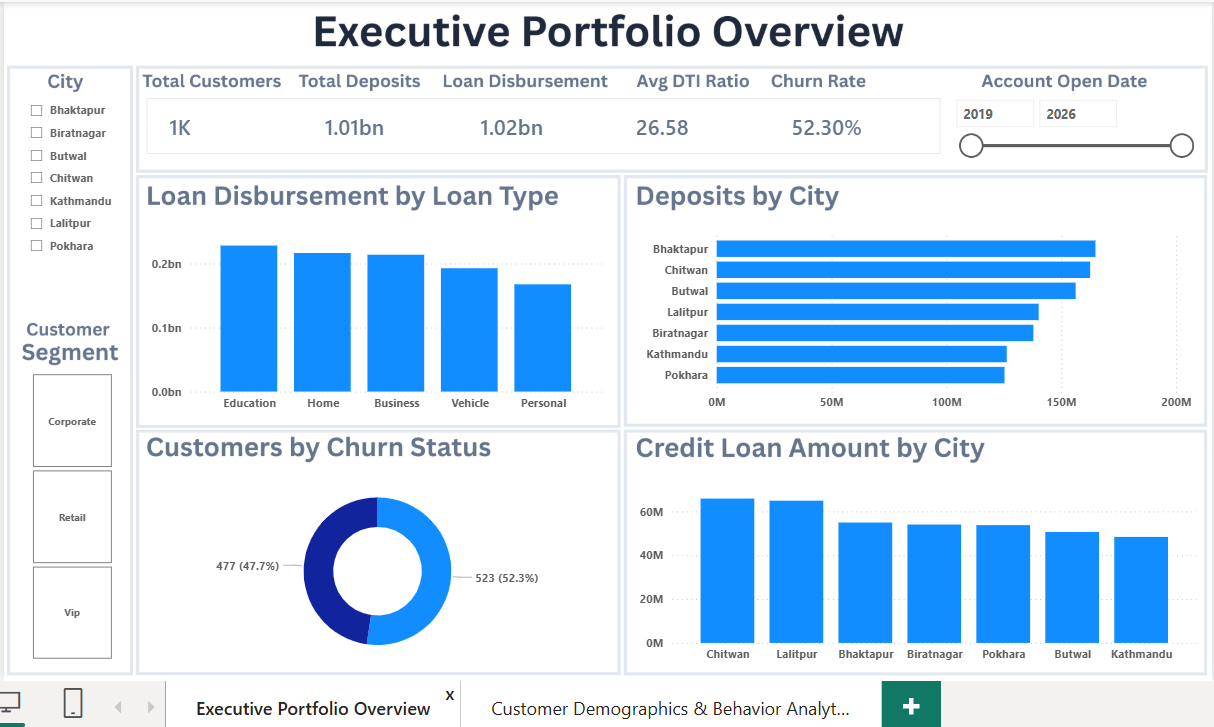

What the dashboard file says about the page in this screenshot:
{"tool":"powerbi","page":{"name":"Executive Portfolio Overview","canvas":[1280,720],"ordinal":0},"visuals":[{"type":"columnChart","fields":{"Category":["banking_data_enriched.Loan_Type"],"Y":["banking_data_enriched.Total Loan Disbursement"]},"box":[151,229.4,488.2,213.7],"z":0},{"type":"clusteredBarChart","fields":{"Category":["banking_data_enriched.City"],"Y":["banking_data_enriched.Total Deposits"]},"box":[674.5,231.4,590.2,211.8],"z":1000},{"type":"donutChart","fields":{"Y":["banking_data_enriched.Total Customers"],"Category":["banking_data_enriched.Churn_Status"]},"box":[150.8,498.3,489.2,210.8],"z":2000},{"type":"columnChart","fields":{"Category":["banking_data_enriched.City"],"Y":["banking_data_enriched.High Credit Loan Amount"]},"box":[667.5,502.5,596.7,206.7],"z":3000},{"type":"slicer","fields":{"Values":["banking_data_enriched.Account_Open_Date.Variation.Date Hierarchy.Year"]},"box":[1002.9,98.6,262.9,72.9],"z":4000},{"type":"slicer","title":"City","fields":{"Values":["banking_data_enriched.City"]},"box":[20,96.7,101.1,201.1],"z":5000},{"type":"slicer","title":"Customer Segment","fields":{"Values":["banking_data_enriched.Customer_Segment"]},"box":[8.9,393.3,123.3,305.6],"z":6000},{"type":"cardVisual","fields":{"Data":["banking_data_enriched.Total Customers","banking_data_enriched.Total Deposits","banking_data_enriched.Total Loan Disbursement","banking_data_enriched.Avg DTI Ratio","banking_data_enriched.Churn Rate"]},"box":[151.1,101.1,842.2,58.9],"z":7000}]}

Visuals, with their boxes on the page's 1280x720 design canvas (x1, y1, x2, y2). These are canvas units, not pixel positions in the 1214x727 screenshot, which may show the page scaled, cropped or inside an application window:
columnChart - banking_data_enriched.Loan_Type x banking_data_enriched.Total Loan Disbursement: [left=151, top=229, right=639, bottom=443]
clusteredBarChart - banking_data_enriched.City x banking_data_enriched.Total Deposits: [left=674, top=231, right=1265, bottom=443]
donutChart - banking_data_enriched.Total Customers x banking_data_enriched.Churn_Status: [left=151, top=498, right=640, bottom=709]
columnChart - banking_data_enriched.City x banking_data_enriched.High Credit Loan Amount: [left=668, top=502, right=1264, bottom=709]
slicer - banking_data_enriched.Account_Open_Date.Variation.Date Hierarchy.Year: [left=1003, top=99, right=1266, bottom=172]
"City" slicer: [left=20, top=97, right=121, bottom=298]
"Customer Segment" slicer: [left=9, top=393, right=132, bottom=699]
cardVisual - banking_data_enriched.Total Customers x banking_data_enriched.Total Deposits: [left=151, top=101, right=993, bottom=160]
